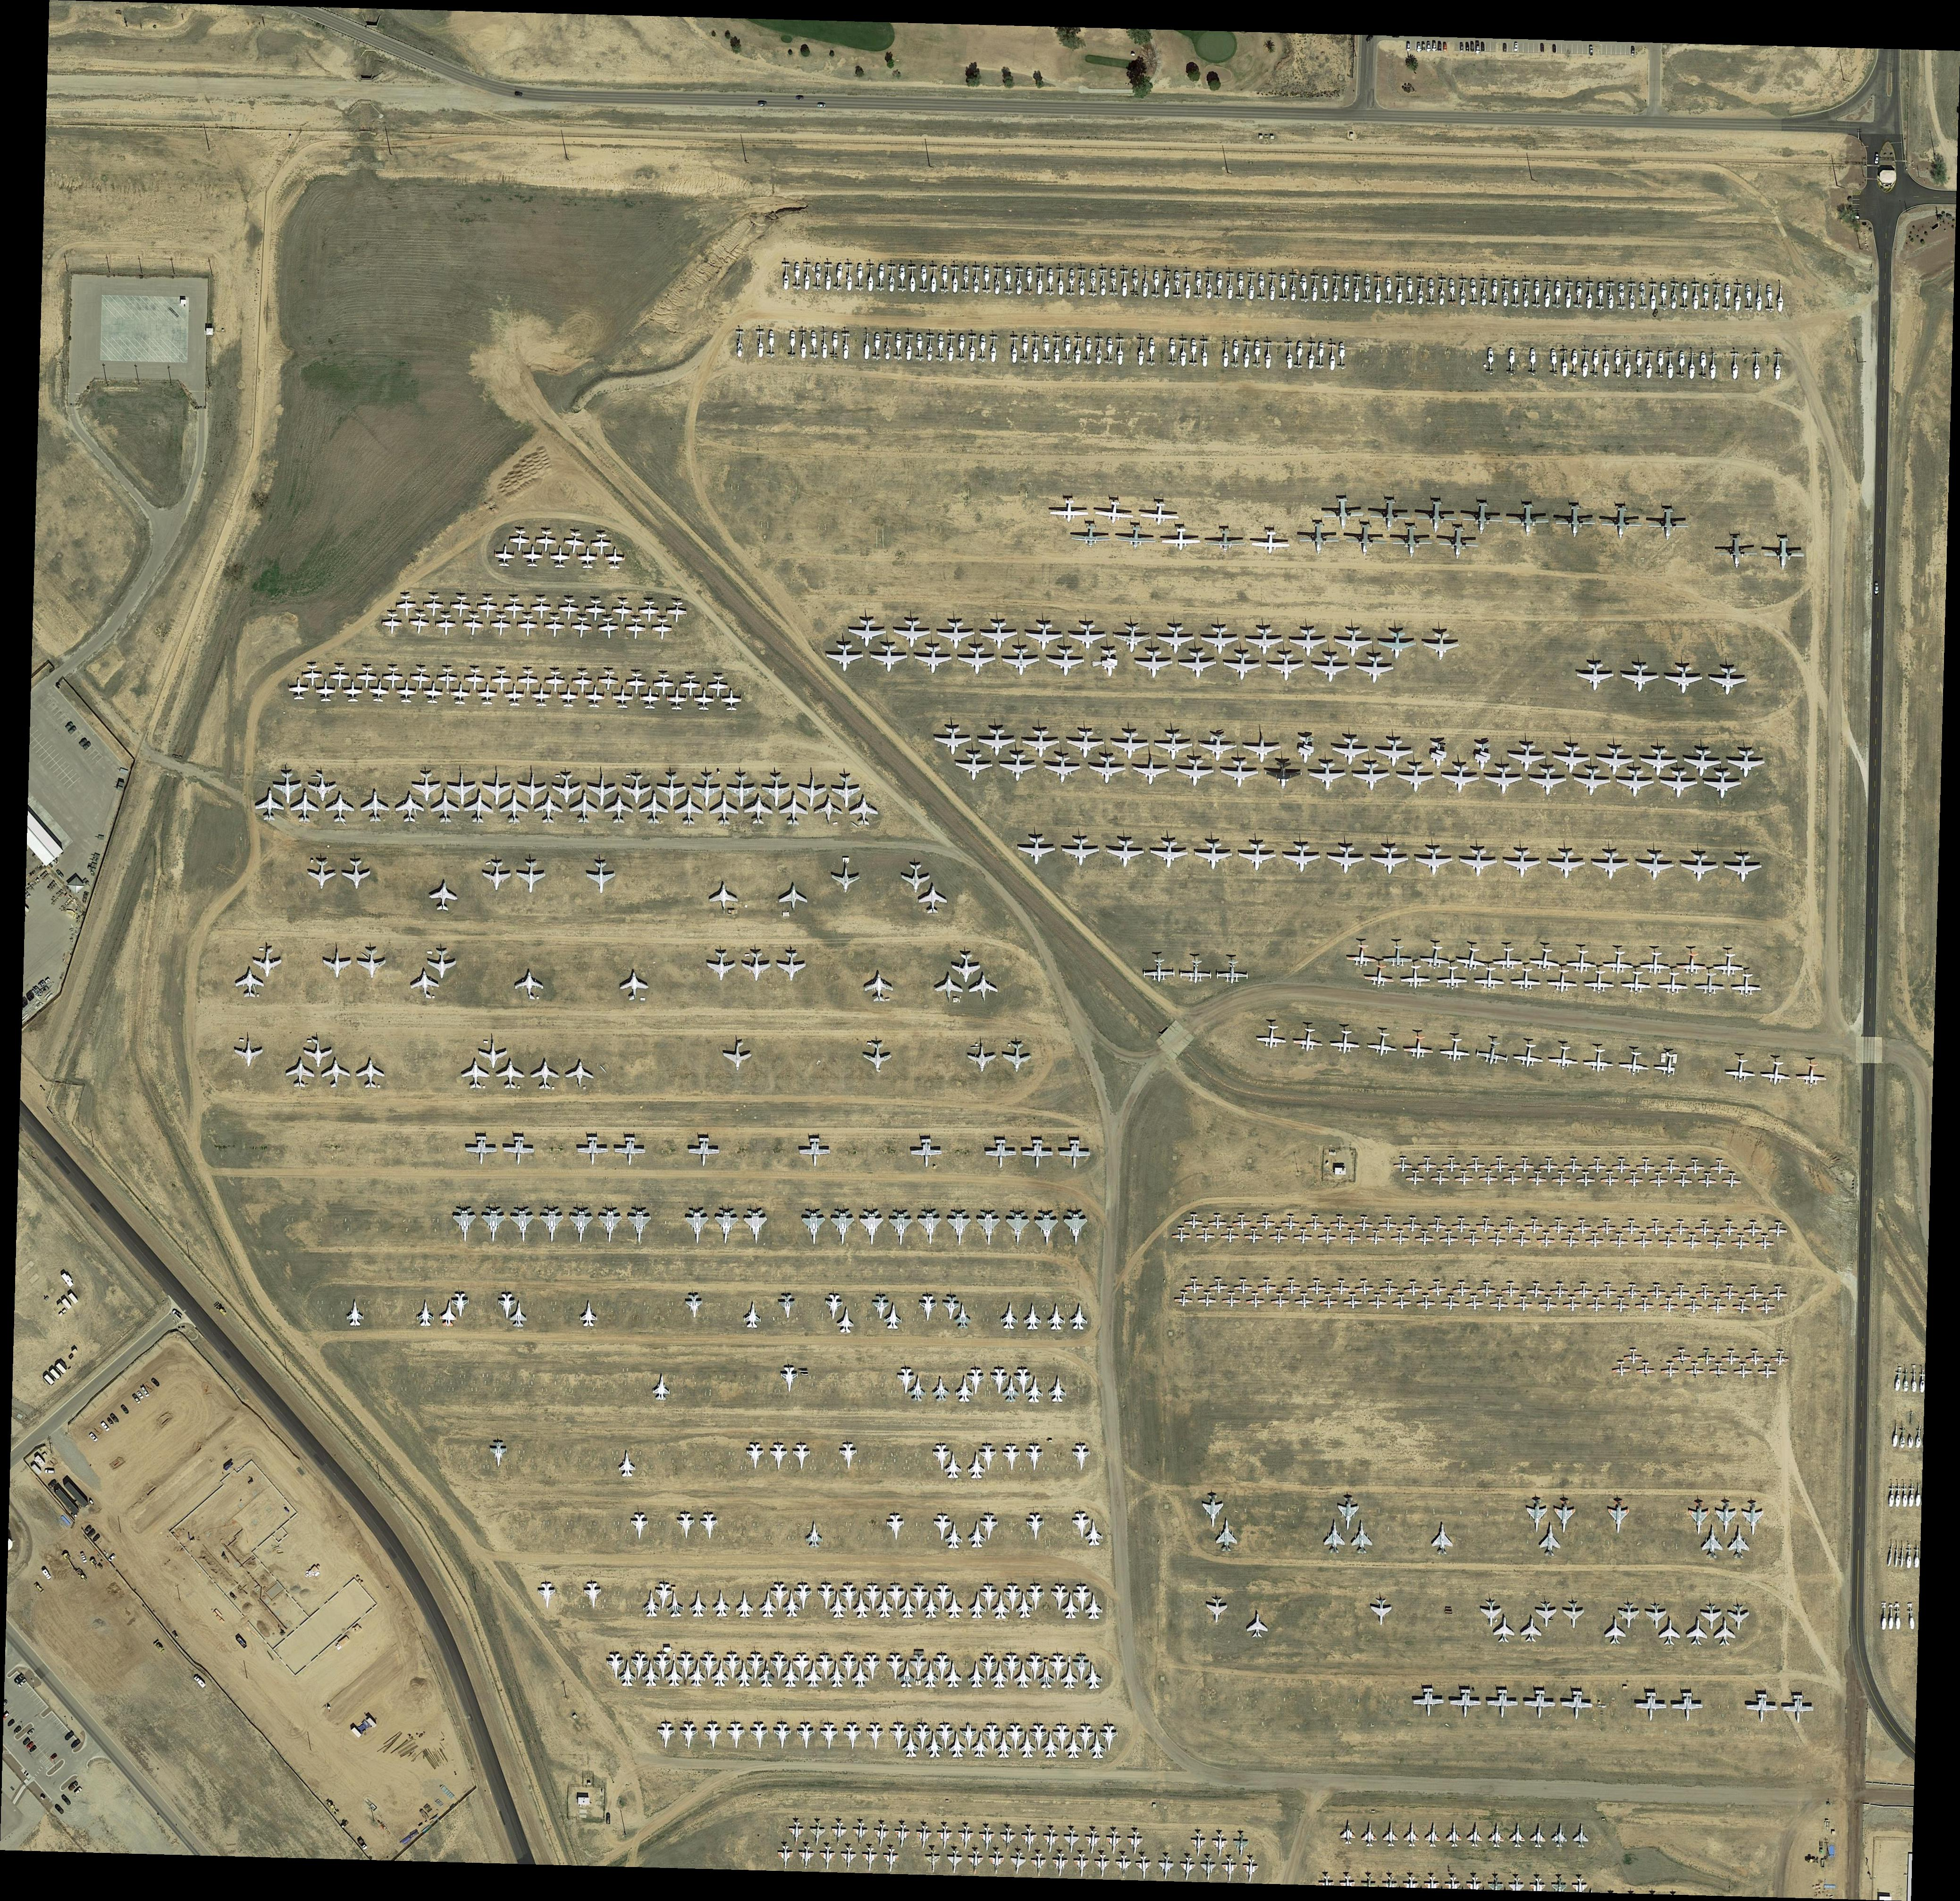plane: (1368, 497, 1412, 536), (1344, 523, 1389, 560), (1437, 525, 1480, 562), (1554, 504, 1598, 539), (1461, 502, 1505, 537), (1414, 501, 1458, 536), (1321, 497, 1365, 532), (1647, 508, 1689, 543), (1601, 508, 1643, 543), (1507, 504, 1550, 537), (1389, 525, 1433, 558), (1682, 747, 1724, 781), (1708, 665, 1750, 698), (1764, 539, 1806, 572), (1717, 537, 1759, 571), (1299, 523, 1340, 557), (1137, 501, 1183, 530), (954, 751, 994, 784), (1615, 767, 1656, 800), (1659, 768, 1699, 802), (1703, 768, 1743, 802), (891, 618, 933, 649), (1507, 742, 1549, 774), (1550, 744, 1592, 775), (1440, 765, 1482, 796), (1571, 767, 1613, 798), (1664, 665, 1706, 697), (795, 774, 829, 810), (1243, 735, 1283, 767), (1111, 732, 1151, 763), (1066, 730, 1106, 761), (847, 618, 887, 649), (1376, 739, 1416, 770), (1333, 628, 1374, 660), (1377, 630, 1417, 662), (1621, 663, 1661, 695), (1111, 625, 1151, 656), (956, 646, 998, 676), (1148, 840, 1190, 870), (1092, 499, 1136, 527), (1069, 523, 1113, 551), (826, 642, 864, 674), (1332, 737, 1370, 768), (1155, 732, 1193, 763), (913, 644, 952, 676), (1724, 854, 1762, 886), (1396, 763, 1435, 795), (1176, 758, 1214, 789), (999, 753, 1038, 784), (1290, 628, 1328, 660), (1592, 851, 1631, 882), (1503, 849, 1542, 880), (1473, 1038, 1512, 1070), (1199, 735, 1239, 765), (1022, 730, 1062, 760), (977, 728, 1017, 758), (868, 644, 908, 674), (1636, 852, 1677, 882), (936, 621, 977, 651), (1024, 623, 1064, 653), (1134, 649, 1174, 679), (1155, 627, 1195, 656), (1178, 651, 1218, 681), (1199, 627, 1239, 656), (1244, 628, 1284, 658), (1265, 653, 1305, 683), (1594, 747, 1634, 777), (1351, 761, 1391, 791), (1307, 761, 1347, 791), (1220, 760, 1260, 789), (1131, 756, 1171, 786), (1087, 756, 1127, 786), (1638, 747, 1678, 777), (1311, 655, 1351, 684), (1017, 837, 1057, 866), (1237, 844, 1277, 873), (656, 774, 689, 809), (1115, 525, 1158, 551), (980, 621, 1019, 651), (1001, 648, 1039, 677), (1223, 653, 1262, 683), (1680, 854, 1718, 884), (1043, 756, 1081, 786), (1727, 751, 1766, 781), (1423, 632, 1461, 662), (1577, 663, 1615, 693), (1549, 851, 1587, 880), (1062, 838, 1101, 868), (1106, 840, 1144, 870), (1195, 842, 1234, 872), (1326, 845, 1365, 875), (1370, 847, 1409, 877), (1459, 849, 1498, 879), (597, 1206, 625, 1246), (1069, 625, 1110, 653), (1046, 649, 1087, 677), (1264, 761, 1304, 789), (1484, 767, 1524, 795), (1528, 768, 1568, 796), (1355, 656, 1395, 684), (777, 793, 810, 826), (829, 775, 863, 809), (759, 775, 793, 809), (707, 884, 740, 917), (514, 861, 548, 894), (705, 950, 739, 984), (1059, 1138, 1092, 1171), (861, 1040, 894, 1073), (301, 1036, 334, 1070), (1449, 1687, 1482, 1721), (1561, 1689, 1594, 1722), (1634, 1691, 1668, 1724), (586, 774, 618, 809), (691, 774, 723, 809), (359, 789, 390, 824), (462, 791, 494, 826), (1454, 943, 1489, 975), (1365, 1029, 1400, 1061), (1512, 1042, 1547, 1073), (934, 728, 973, 756), (1283, 845, 1321, 873), (1251, 530, 1291, 557), (1414, 849, 1454, 875), (709, 793, 740, 826), (847, 795, 880, 826), (726, 775, 758, 809), (549, 774, 583, 805), (516, 774, 548, 807), (481, 774, 513, 807), (273, 772, 304, 805), (674, 793, 705, 826), (968, 973, 999, 1007), (584, 861, 616, 894), (481, 859, 513, 893), (427, 880, 460, 912), (339, 859, 373, 891), (429, 791, 460, 824), (499, 791, 530, 824), (534, 791, 565, 824), (254, 789, 285, 823), (427, 949, 459, 982), (910, 1138, 943, 1169), (1020, 1138, 1054, 1169), (478, 1036, 509, 1070), (355, 1057, 387, 1091), (235, 966, 266, 1000), (502, 1136, 535, 1168), (1524, 1689, 1556, 1722), (1745, 1693, 1778, 1724), (1412, 1687, 1445, 1719), (290, 789, 320, 824), (983, 1140, 1019, 1169), (1417, 943, 1452, 973), (1528, 945, 1563, 975), (1255, 1022, 1290, 1052), (1004, 1210, 1032, 1246), (915, 1210, 943, 1246), (1206, 529, 1248, 553), (1160, 527, 1202, 551), (1062, 1210, 1088, 1248), (947, 1208, 973, 1246), (829, 1208, 856, 1246), (714, 1208, 740, 1246), (684, 1208, 711, 1246), (569, 1206, 595, 1245), (509, 1206, 535, 1245), (481, 1206, 507, 1245), (621, 774, 653, 805), (618, 970, 649, 1001), (446, 774, 478, 805), (411, 772, 443, 803), (864, 972, 896, 1003), (950, 954, 982, 986), (306, 859, 338, 891), (394, 791, 425, 823), (721, 1042, 752, 1073), (565, 1059, 597, 1091), (528, 1059, 560, 1091), (320, 1057, 352, 1089), (233, 1038, 264, 1070), (320, 949, 352, 980), (409, 970, 441, 1001), (614, 1136, 646, 1168), (639, 791, 668, 824), (569, 791, 599, 824), (831, 861, 861, 894), (513, 972, 546, 1001), (688, 1138, 721, 1168), (798, 1138, 831, 1168), (1003, 1042, 1032, 1075), (285, 1057, 315, 1091), (465, 1136, 499, 1166), (1671, 1693, 1704, 1722), (1781, 1694, 1815, 1724), (1486, 1689, 1519, 1719), (1291, 1026, 1325, 1056), (1547, 1043, 1580, 1073), (1582, 1047, 1615, 1077), (742, 1210, 770, 1245), (1545, 968, 1580, 996), (1617, 1050, 1652, 1078), (1724, 1057, 1759, 1085), (1759, 1061, 1794, 1089), (1601, 949, 1636, 977), (1034, 1211, 1060, 1248), (539, 1208, 565, 1245), (1048, 501, 1090, 523), (977, 1208, 1001, 1246), (889, 1210, 913, 1248), (801, 1208, 826, 1246), (306, 774, 338, 803), (604, 793, 633, 824), (740, 954, 772, 984), (775, 952, 807, 982), (934, 973, 964, 1005), (919, 884, 948, 915), (901, 863, 931, 894), (325, 793, 355, 824), (577, 1136, 609, 1166), (966, 1043, 998, 1073), (460, 1059, 490, 1091), (252, 947, 282, 979), (355, 949, 387, 979), (742, 796, 775, 824), (1363, 963, 1396, 991), (1328, 1029, 1361, 1057), (1438, 1036, 1472, 1064), (1652, 1052, 1685, 1080), (1795, 1063, 1829, 1091), (451, 1208, 478, 1243), (1536, 1521, 1563, 1556), (1344, 943, 1379, 970), (1712, 952, 1746, 979), (859, 1210, 884, 1246), (628, 1208, 653, 1245), (1552, 1498, 1577, 1535), (1687, 1500, 1712, 1537), (1524, 1498, 1549, 1535), (1337, 1497, 1361, 1533), (814, 795, 844, 824), (495, 1059, 525, 1089), (1566, 949, 1598, 977), (1403, 1035, 1435, 1063), (1731, 972, 1762, 1000), (1657, 970, 1689, 998), (1435, 965, 1468, 991), (1143, 958, 1176, 984), (1694, 972, 1727, 998), (1677, 952, 1710, 979), (1638, 950, 1671, 977), (1621, 970, 1654, 996), (1727, 1525, 1752, 1560), (1349, 1519, 1374, 1554), (1214, 1518, 1239, 1553), (1608, 1498, 1631, 1535), (1701, 1523, 1724, 1560), (1202, 1493, 1225, 1530), (1323, 1518, 1346, 1554), (779, 884, 808, 912), (1493, 947, 1524, 973), (1473, 966, 1505, 993), (1584, 970, 1615, 996), (649, 1371, 674, 1404), (1509, 968, 1542, 993), (1216, 961, 1249, 986), (1179, 959, 1213, 984), (1715, 1502, 1738, 1537), (1741, 1502, 1764, 1537), (1400, 965, 1432, 989), (1382, 945, 1414, 970), (1432, 1523, 1454, 1556), (1657, 1617, 1682, 1647), (653, 1581, 675, 1612), (562, 530, 588, 557), (408, 667, 434, 693), (1645, 1603, 1669, 1631), (1479, 1600, 1503, 1628), (1071, 1584, 1094, 1614), (343, 1297, 366, 1327), (415, 1297, 437, 1327), (437, 1297, 460, 1327), (823, 1292, 845, 1322), (1687, 1617, 1710, 1647), (1617, 1602, 1640, 1631), (1563, 1600, 1585, 1630), (1465, 1820, 1488, 1850), (1400, 1820, 1423, 1850), (912, 1722, 933, 1754), (1075, 1722, 1095, 1754), (742, 1301, 763, 1332), (665, 1588, 686, 1619), (999, 1301, 1020, 1332), (448, 681, 473, 707), (556, 599, 583, 623), (422, 593, 446, 620), (394, 593, 420, 618), (494, 543, 518, 569), (507, 530, 534, 555), (313, 677, 338, 704), (462, 613, 486, 639), (1111, 1852, 1136, 1878), (1088, 1850, 1113, 1876), (1069, 1850, 1094, 1876), (1004, 1850, 1031, 1875), (604, 1652, 627, 1680), (908, 1584, 931, 1612), (919, 1661, 941, 1689), (616, 1449, 639, 1477), (495, 1292, 518, 1320), (1727, 1603, 1750, 1631), (1713, 1619, 1736, 1647), (1701, 1603, 1724, 1631), (1605, 1617, 1627, 1645), (1493, 1616, 1515, 1644), (1370, 1598, 1393, 1626), (1206, 1596, 1228, 1624), (1176, 1852, 1199, 1880), (1153, 1852, 1176, 1880), (985, 1848, 1008, 1876), (956, 1822, 978, 1850), (947, 1729, 968, 1759), (934, 1722, 956, 1752), (924, 1729, 945, 1759), (901, 1729, 922, 1759), (656, 1721, 677, 1750), (630, 1652, 651, 1682), (1039, 1729, 1060, 1759), (698, 1651, 719, 1680), (933, 1584, 954, 1614), (745, 1652, 767, 1682), (768, 1652, 789, 1682), (943, 1659, 964, 1689), (758, 1589, 779, 1619), (1013, 1367, 1034, 1397), (779, 1364, 800, 1393), (577, 1299, 599, 1329), (835, 1306, 856, 1336), (791, 1442, 812, 1472), (583, 1581, 604, 1610), (885, 1512, 906, 1542), (933, 1512, 954, 1542), (1083, 1518, 1104, 1547), (980, 1512, 1001, 1542), (1025, 1512, 1046, 1542), (1022, 1302, 1043, 1332), (1069, 1302, 1090, 1332), (1188, 1827, 1209, 1857), (679, 1721, 698, 1752), (1423, 1820, 1442, 1852), (367, 679, 392, 704), (394, 679, 418, 704), (597, 616, 621, 641), (448, 595, 473, 620), (520, 543, 544, 567), (548, 544, 572, 569), (571, 616, 595, 641), (583, 684, 607, 709), (597, 670, 621, 695), (571, 670, 595, 695), (516, 669, 541, 693), (462, 669, 486, 693), (380, 613, 404, 637), (408, 613, 432, 637), (943, 1593, 966, 1619), (422, 679, 445, 705), (611, 599, 633, 625), (625, 616, 647, 642), (1071, 1512, 1094, 1539), (940, 1295, 962, 1322), (1535, 1602, 1557, 1628), (1521, 1617, 1544, 1644), (1246, 1612, 1269, 1638), (1507, 1824, 1529, 1850), (1131, 1854, 1153, 1880), (920, 1848, 943, 1875), (992, 1731, 1013, 1759), (982, 1724, 1003, 1752), (957, 1724, 978, 1752), (889, 1722, 910, 1750), (842, 1722, 863, 1750), (618, 1659, 639, 1687), (653, 1652, 674, 1680), (1029, 1724, 1050, 1752), (1099, 1724, 1120, 1752), (1087, 1731, 1108, 1759), (1071, 1654, 1092, 1682), (1060, 1591, 1081, 1619), (1050, 1584, 1071, 1612), (1003, 1584, 1024, 1612), (978, 1584, 999, 1612), (968, 1591, 989, 1619), (875, 1591, 896, 1619), (863, 1584, 884, 1612), (852, 1591, 873, 1619), (838, 1582, 859, 1610), (793, 1582, 814, 1610), (721, 1652, 742, 1680), (838, 1654, 859, 1682), (966, 1661, 987, 1689), (978, 1654, 999, 1682), (1001, 1654, 1022, 1682), (711, 1589, 731, 1617), (1024, 1376, 1045, 1404), (989, 1367, 1010, 1395), (954, 1376, 975, 1404), (906, 1374, 928, 1402), (896, 1367, 917, 1395), (488, 1441, 509, 1469), (507, 1301, 528, 1329), (745, 1442, 767, 1470), (838, 1442, 859, 1470), (628, 1512, 649, 1540), (675, 1512, 696, 1540), (698, 1512, 719, 1540), (943, 1521, 964, 1549), (1024, 1444, 1045, 1472), (966, 1451, 987, 1479), (931, 1444, 952, 1472), (872, 1294, 892, 1322), (882, 1302, 903, 1330), (917, 1294, 938, 1322), (1486, 1822, 1507, 1850), (966, 1848, 987, 1876), (1039, 1824, 1060, 1852), (866, 1721, 885, 1750), (773, 1722, 793, 1752), (703, 1722, 723, 1752), (642, 1658, 661, 1687), (1085, 1661, 1104, 1691), (1085, 1591, 1104, 1621), (1048, 1652, 1067, 1682), (793, 1652, 812, 1682), (805, 1658, 824, 1687), (885, 1652, 905, 1682), (990, 1659, 1010, 1689), (1025, 1654, 1045, 1684), (1048, 1374, 1067, 1404), (966, 1367, 985, 1397), (770, 1442, 789, 1472), (689, 1589, 709, 1619), (642, 1589, 661, 1619), (537, 1581, 556, 1610), (1071, 1442, 1090, 1472), (1046, 1301, 1066, 1330), (1444, 1822, 1463, 1852), (894, 1820, 913, 1850), (934, 1820, 954, 1850), (530, 683, 553, 707), (584, 599, 607, 623), (476, 597, 501, 620), (576, 544, 599, 569), (590, 532, 612, 557), (535, 530, 558, 555), (542, 616, 567, 639), (611, 684, 633, 709), (693, 688, 716, 712), (679, 674, 703, 697), (651, 674, 675, 697), (625, 672, 647, 697), (544, 670, 567, 695), (436, 669, 460, 691), (381, 667, 404, 691), (355, 667, 380, 690), (490, 614, 513, 639), (518, 614, 541, 639), (287, 677, 310, 702), (675, 1654, 696, 1680), (898, 1593, 919, 1619), (885, 1584, 906, 1610), (1036, 1663, 1057, 1689), (782, 1658, 800, 1689), (814, 1654, 835, 1680), (768, 1584, 789, 1610), (931, 1376, 952, 1402), (450, 1292, 471, 1318), (684, 1292, 705, 1318), (913, 1822, 934, 1848), (1050, 1850, 1071, 1876), (943, 1848, 964, 1875), (1123, 1829, 1144, 1855), (1083, 1827, 1104, 1854), (975, 1824, 996, 1850), (819, 1722, 838, 1750), (971, 1731, 990, 1759), (796, 1722, 816, 1750), (749, 1722, 768, 1750), (665, 1659, 684, 1687), (1006, 1724, 1025, 1752), (1019, 1731, 1038, 1759), (1064, 1731, 1083, 1759), (1052, 1724, 1071, 1752), (688, 1659, 707, 1687), (1025, 1584, 1045, 1612), (829, 1591, 849, 1619), (817, 1582, 836, 1610), (782, 1591, 801, 1619), (711, 1659, 730, 1687), (735, 1659, 754, 1687), (758, 1659, 777, 1687), (828, 1659, 847, 1687), (863, 1652, 882, 1680), (898, 1661, 917, 1689), (910, 1654, 929, 1682), (933, 1654, 952, 1682), (1013, 1661, 1032, 1689), (735, 1589, 754, 1617), (1001, 1374, 1020, 1402), (805, 1519, 824, 1547), (968, 1521, 987, 1549), (1001, 1444, 1020, 1472), (978, 1444, 998, 1472), (943, 1451, 962, 1479), (954, 1302, 973, 1330), (852, 1819, 872, 1847), (829, 1819, 849, 1847), (808, 1819, 828, 1847), (1381, 1820, 1400, 1848), (1360, 1820, 1379, 1848), (1549, 1822, 1568, 1850), (882, 1847, 901, 1875), (1020, 1824, 1039, 1852), (999, 1822, 1019, 1850), (341, 679, 364, 702), (476, 683, 499, 705), (556, 684, 579, 707), (651, 618, 674, 641), (665, 602, 688, 625), (639, 600, 661, 623), (530, 599, 553, 621), (604, 546, 627, 569), (329, 667, 352, 690), (301, 665, 324, 688), (639, 686, 661, 709), (665, 688, 688, 711), (719, 688, 742, 711), (707, 676, 730, 698), (490, 670, 513, 693), (990, 1595, 1012, 1619), (504, 683, 525, 707), (436, 613, 457, 637), (786, 1819, 807, 1843), (726, 1722, 745, 1749), (1015, 1593, 1034, 1619), (922, 1593, 941, 1619), (1060, 1663, 1080, 1689), (777, 1294, 796, 1320), (861, 1847, 880, 1873), (872, 1820, 891, 1847), (840, 1845, 859, 1871), (775, 1843, 795, 1869), (1339, 1820, 1358, 1847), (1029, 1850, 1048, 1876), (1104, 1827, 1123, 1854), (852, 1661, 870, 1689), (819, 1845, 836, 1873), (1529, 1822, 1547, 1850), (504, 597, 525, 620), (1389, 1292, 1412, 1313), (1199, 1855, 1218, 1880), (1241, 1857, 1260, 1882), (1232, 1831, 1249, 1857), (1064, 1826, 1081, 1852), (1769, 1348, 1790, 1369), (1172, 1290, 1195, 1309), (1536, 1295, 1559, 1315), (1500, 1281, 1523, 1301), (1475, 1281, 1498, 1301), (1365, 1229, 1388, 1248), (1430, 1169, 1452, 1189), (1573, 1824, 1591, 1848), (1211, 1831, 1228, 1855), (1220, 1855, 1237, 1880), (1612, 1360, 1633, 1379), (1661, 1362, 1682, 1381), (1220, 1227, 1241, 1246), (1232, 1213, 1253, 1232), (1318, 1292, 1339, 1311), (1610, 1297, 1631, 1316), (1526, 1281, 1547, 1301), (1489, 1295, 1510, 1315), (1353, 1215, 1374, 1234), (1722, 1171, 1743, 1190), (1698, 1171, 1718, 1190), (1636, 1157, 1657, 1176), (1600, 1169, 1621, 1189), (1528, 1169, 1549, 1189), (1706, 1234, 1727, 1253), (1475, 1217, 1496, 1236), (1657, 1232, 1678, 1252), (1720, 1350, 1743, 1367), (1743, 1285, 1766, 1302), (1706, 1297, 1729, 1315), (1305, 1280, 1328, 1297), (1367, 1294, 1389, 1311), (1622, 1171, 1645, 1189), (1514, 1157, 1536, 1175), (1209, 1278, 1228, 1297), (1244, 1227, 1264, 1246), (1612, 1157, 1631, 1176), (1565, 1157, 1584, 1176), (1428, 1217, 1447, 1236), (1488, 1231, 1507, 1250), (1671, 1348, 1692, 1365), (1685, 1362, 1706, 1379), (1708, 1362, 1729, 1379), (1733, 1362, 1754, 1379), (1745, 1350, 1766, 1367), (1757, 1364, 1778, 1381), (1768, 1285, 1789, 1302), (1755, 1299, 1776, 1316), (1733, 1299, 1754, 1316), (1718, 1285, 1739, 1302), (1696, 1285, 1717, 1302), (1293, 1292, 1314, 1309), (1256, 1280, 1277, 1297), (1221, 1292, 1243, 1309), (1197, 1292, 1218, 1309), (1183, 1213, 1204, 1231), (1195, 1227, 1216, 1245), (1207, 1213, 1228, 1231), (1269, 1229, 1290, 1246), (1281, 1215, 1302, 1232), (1293, 1229, 1314, 1246), (1305, 1217, 1326, 1234), (1316, 1229, 1337, 1246), (1342, 1294, 1363, 1311), (1355, 1280, 1376, 1297), (1659, 1297, 1680, 1315), (1647, 1283, 1668, 1301), (1634, 1297, 1656, 1315), (1622, 1283, 1643, 1301), (1598, 1283, 1619, 1301), (1573, 1283, 1594, 1301), (1514, 1297, 1535, 1315), (1465, 1295, 1486, 1313), (1440, 1295, 1461, 1313), (1428, 1280, 1449, 1297), (1416, 1295, 1437, 1313), (1379, 1280, 1400, 1297), (1340, 1229, 1361, 1246), (1330, 1217, 1351, 1234), (1731, 1234, 1752, 1252), (1768, 1222, 1789, 1239), (1710, 1159, 1731, 1176), (1685, 1159, 1706, 1176), (1673, 1171, 1694, 1189), (1661, 1159, 1682, 1176), (1648, 1171, 1669, 1189), (1575, 1171, 1596, 1189), (1550, 1171, 1571, 1189), (1501, 1169, 1523, 1187), (1477, 1169, 1498, 1187), (1467, 1157, 1488, 1175), (1682, 1234, 1703, 1252), (1463, 1231, 1484, 1248), (1500, 1218, 1521, 1236), (1512, 1231, 1533, 1248), (1524, 1218, 1545, 1236), (1536, 1232, 1557, 1250), (1596, 1218, 1617, 1236), (1633, 1232, 1654, 1250), (1669, 1220, 1690, 1238), (1452, 1169, 1473, 1187), (1417, 1157, 1438, 1175), (1405, 1169, 1426, 1187), (1393, 1157, 1414, 1175), (1585, 1297, 1608, 1313), (1698, 1350, 1717, 1367), (1332, 1280, 1351, 1297), (1270, 1292, 1290, 1309), (1246, 1292, 1265, 1309), (1234, 1278, 1253, 1295), (1185, 1278, 1204, 1295), (1172, 1227, 1192, 1245), (1256, 1215, 1276, 1232), (1550, 1283, 1570, 1301), (1452, 1281, 1472, 1299), (1745, 1222, 1764, 1239), (1491, 1157, 1510, 1175), (1720, 1220, 1739, 1238), (1696, 1220, 1715, 1238), (1379, 1217, 1398, 1234), (1403, 1217, 1423, 1234), (1416, 1231, 1435, 1248), (1440, 1231, 1459, 1248), (1549, 1218, 1568, 1236), (1561, 1232, 1580, 1250), (1573, 1218, 1592, 1236), (1585, 1232, 1605, 1250), (1610, 1232, 1629, 1250), (1442, 1157, 1461, 1175), (1622, 1350, 1643, 1365), (1683, 1299, 1704, 1315), (1281, 1280, 1302, 1295), (1561, 1297, 1582, 1313), (1403, 1281, 1424, 1297), (1755, 1236, 1776, 1252), (1587, 1159, 1608, 1175), (1538, 1159, 1559, 1175), (1389, 1231, 1411, 1246), (1645, 1220, 1666, 1236), (1636, 1362, 1656, 1378), (1671, 1285, 1690, 1301), (1452, 1218, 1472, 1234), (1622, 1220, 1641, 1236)
